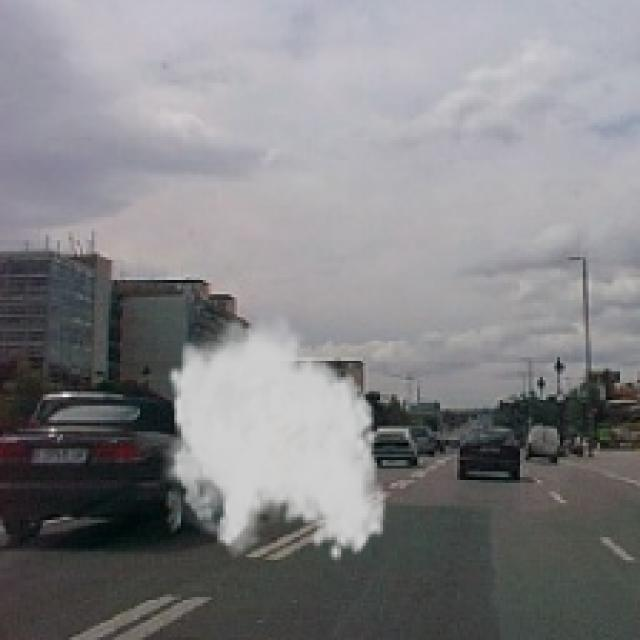smoke: (154, 306, 389, 563)
